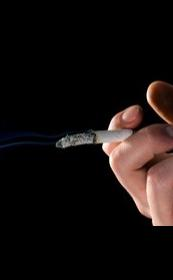Cigarette: (54, 128, 131, 148)
